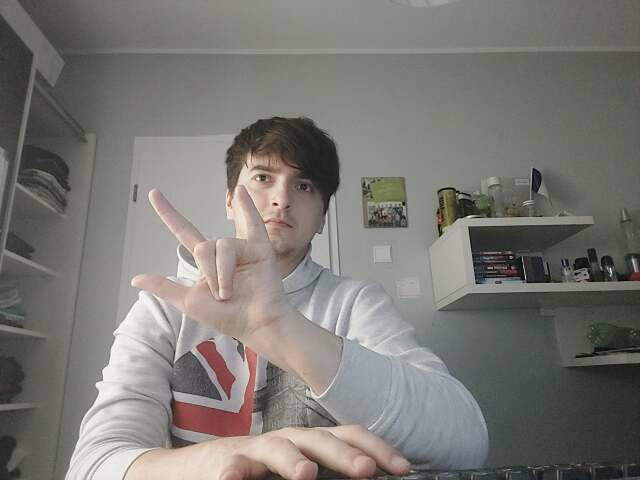love_you: (129, 185, 285, 333)
